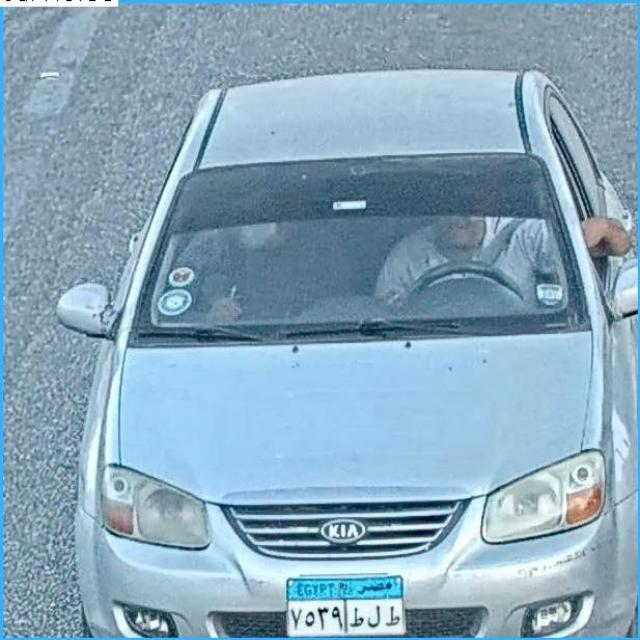Seat_belt: (381, 174, 556, 325)
